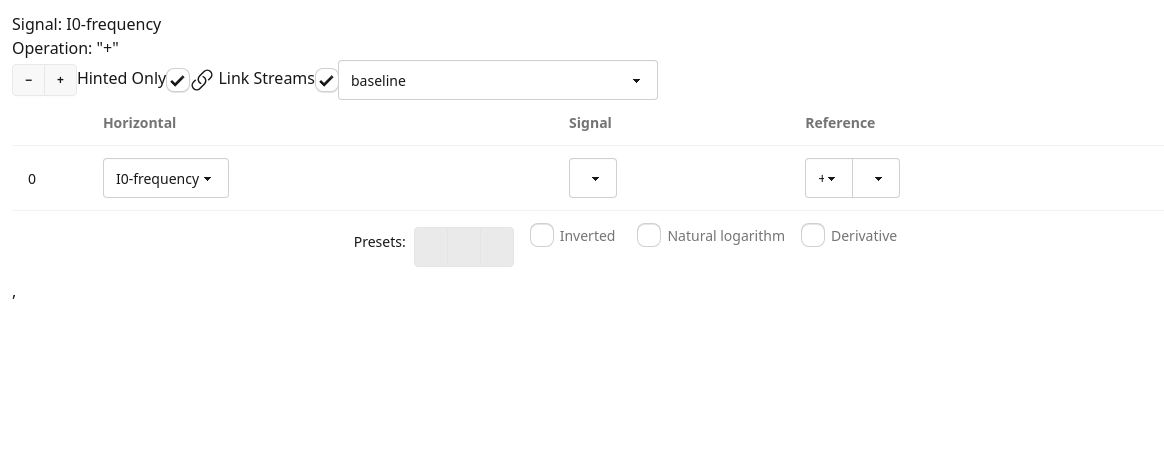
Test: the SingleRunPicker() component › adds and drops rows
Expected: the number of rows is 3, [12, 100, 1163, 146]; [12, 146, 1163, 211]; [12, 211, 1163, 279]
# Add a row
Click the button "+": click(60, 80) [44, 64, 77, 96]
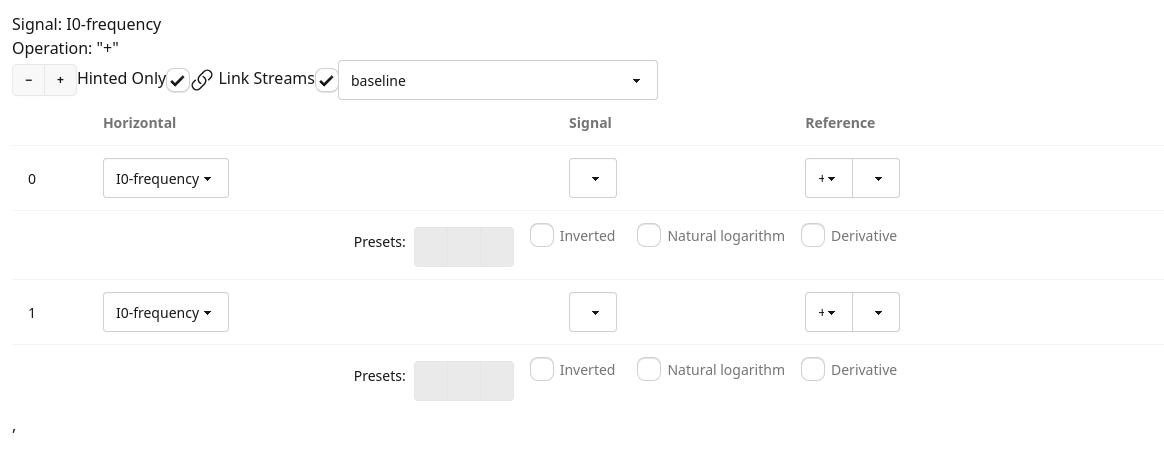
Result: the number of rows is 5 at [12, 100, 1163, 146]; [12, 146, 1163, 211]; [12, 211, 1163, 280]; [12, 280, 1163, 345]; [12, 345, 1163, 413]
# Remove a row
Click the button "−": click(28, 80) [12, 64, 45, 96]
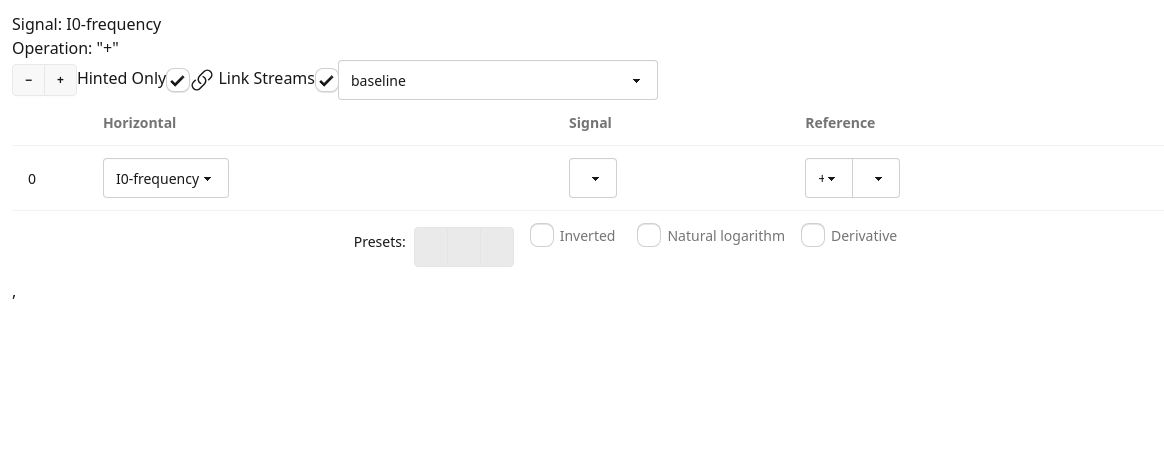
Result: the number of rows is 3 at [12, 100, 1163, 146]; [12, 146, 1163, 211]; [12, 211, 1163, 279]
